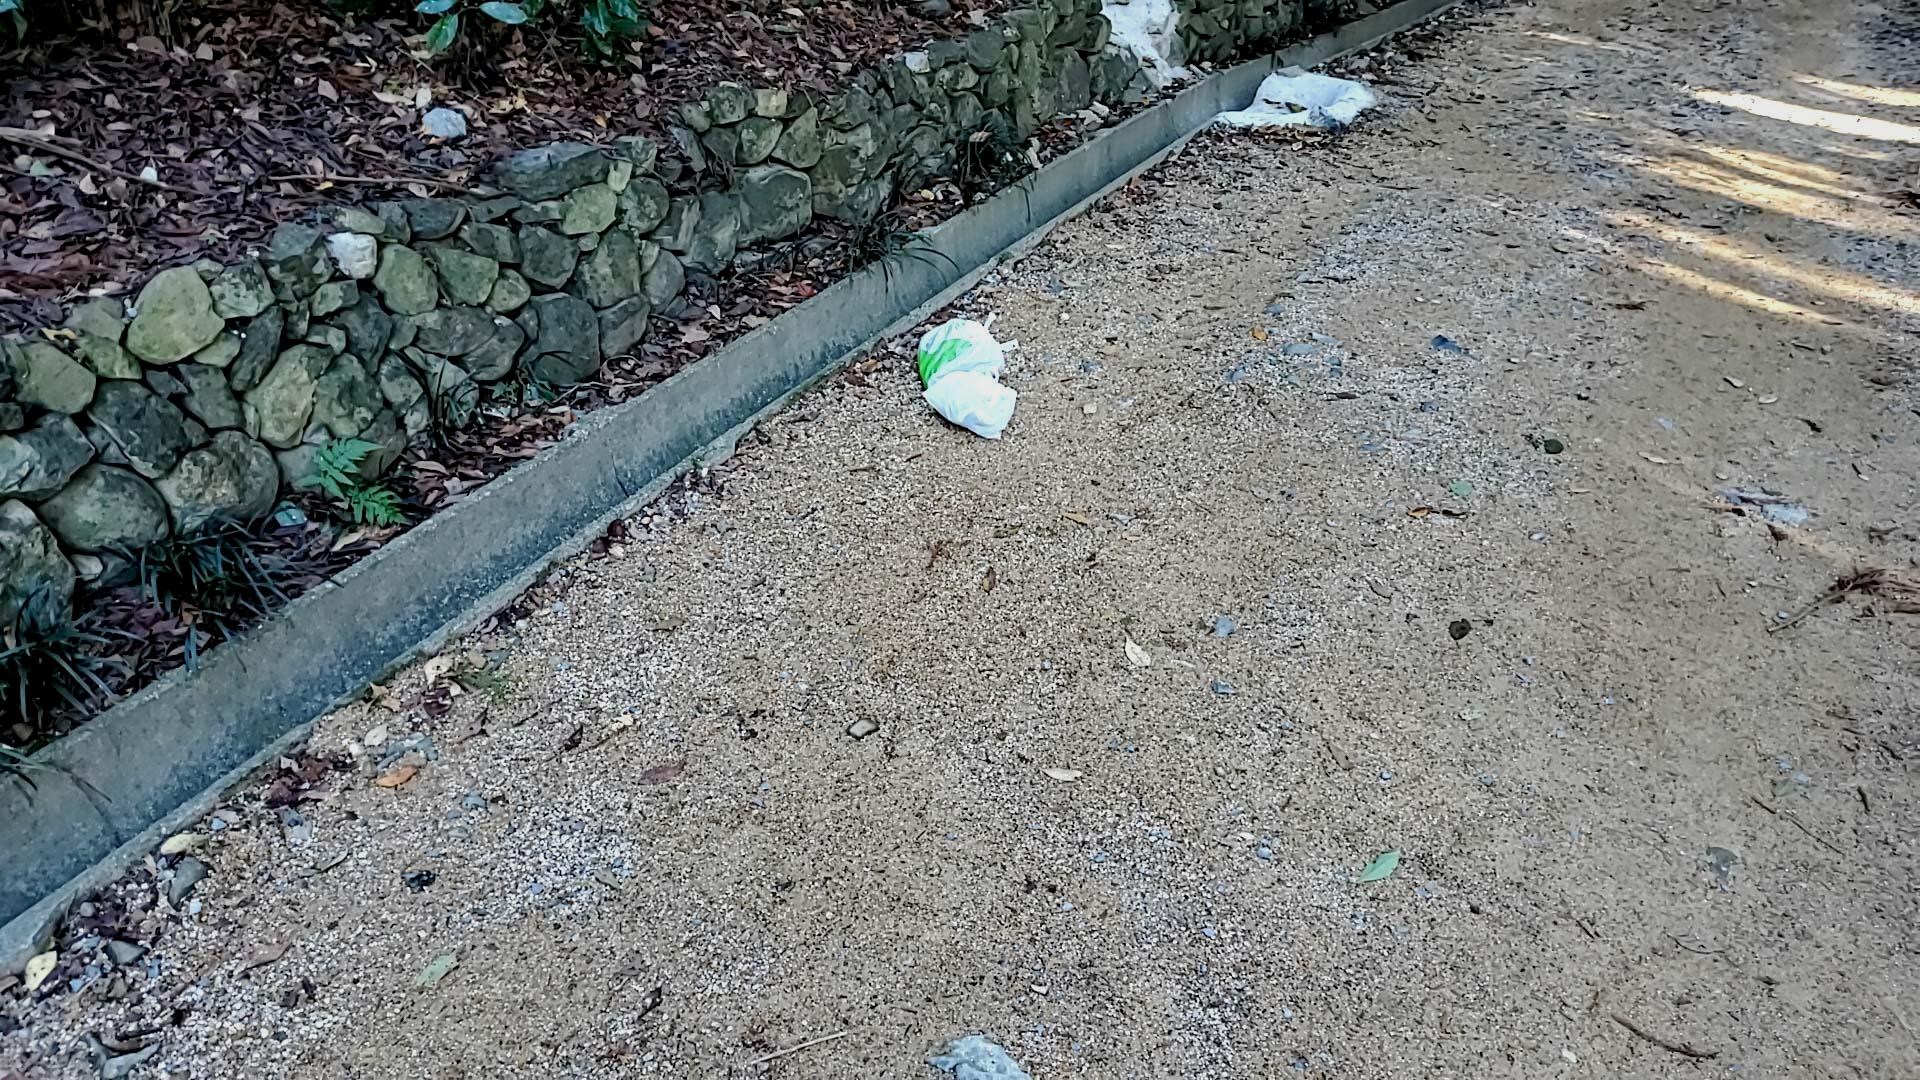white_bag: (909, 311, 1025, 392), (922, 367, 1022, 440)
